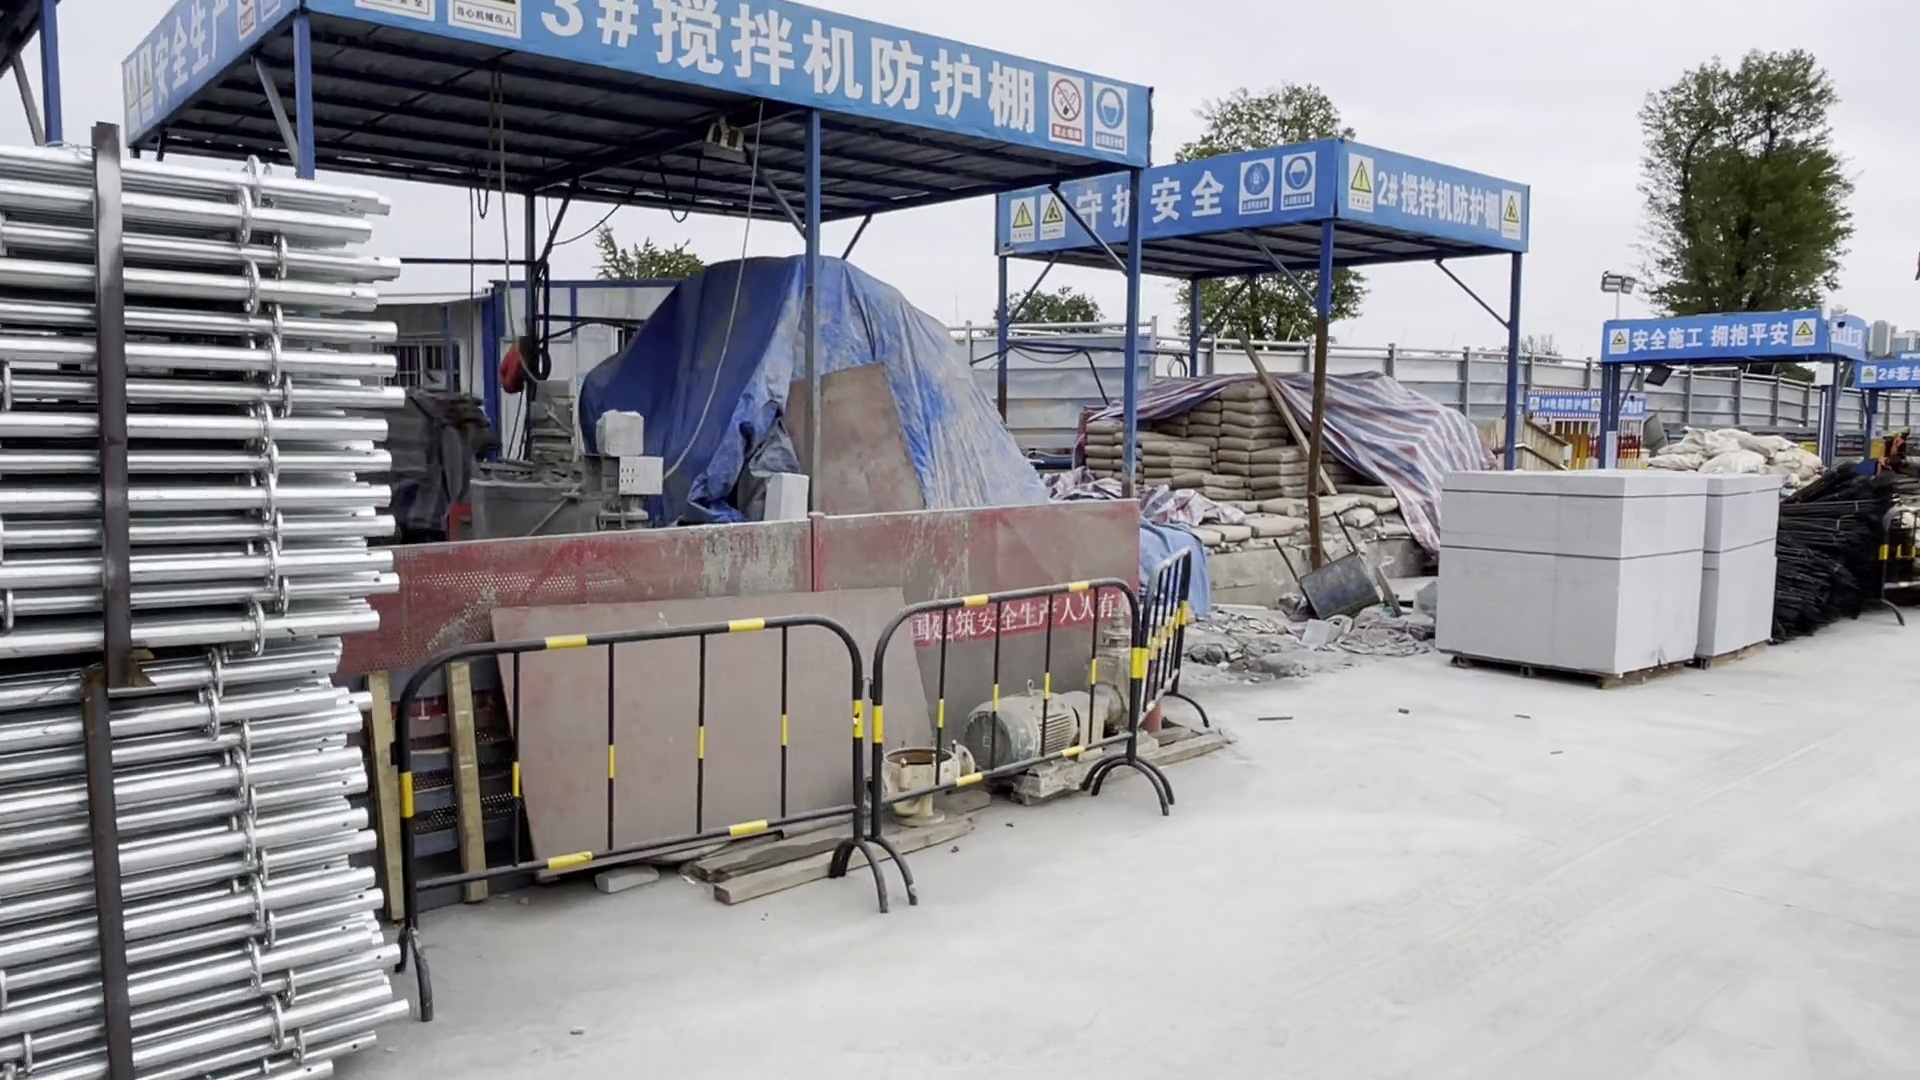brick: (1427, 464, 1705, 694), (1697, 468, 1797, 678)
scaffold: (1, 144, 447, 640), (4, 640, 386, 1080)
slogan: (969, 156, 1324, 247), (1600, 314, 1820, 359), (1044, 71, 1141, 160)
